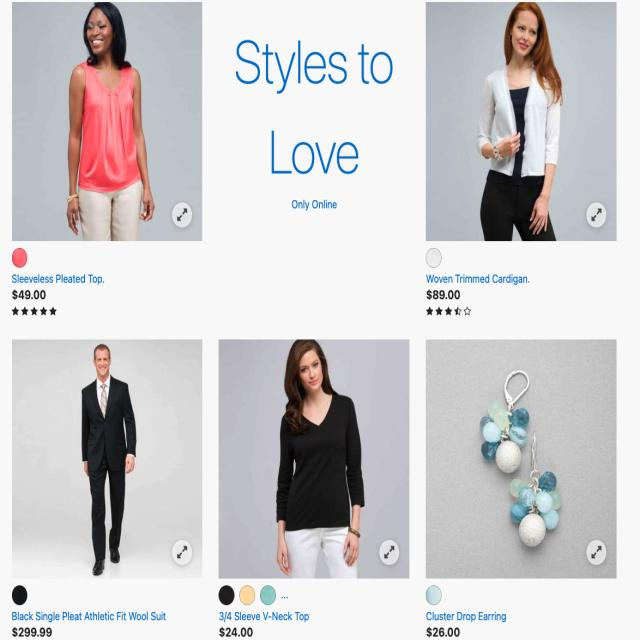ProductTile: (4, 0, 204, 320), (424, 0, 618, 323), (424, 338, 622, 639), (8, 336, 204, 640), (216, 337, 411, 639)
ProductTileRow: (4, 335, 634, 637)
